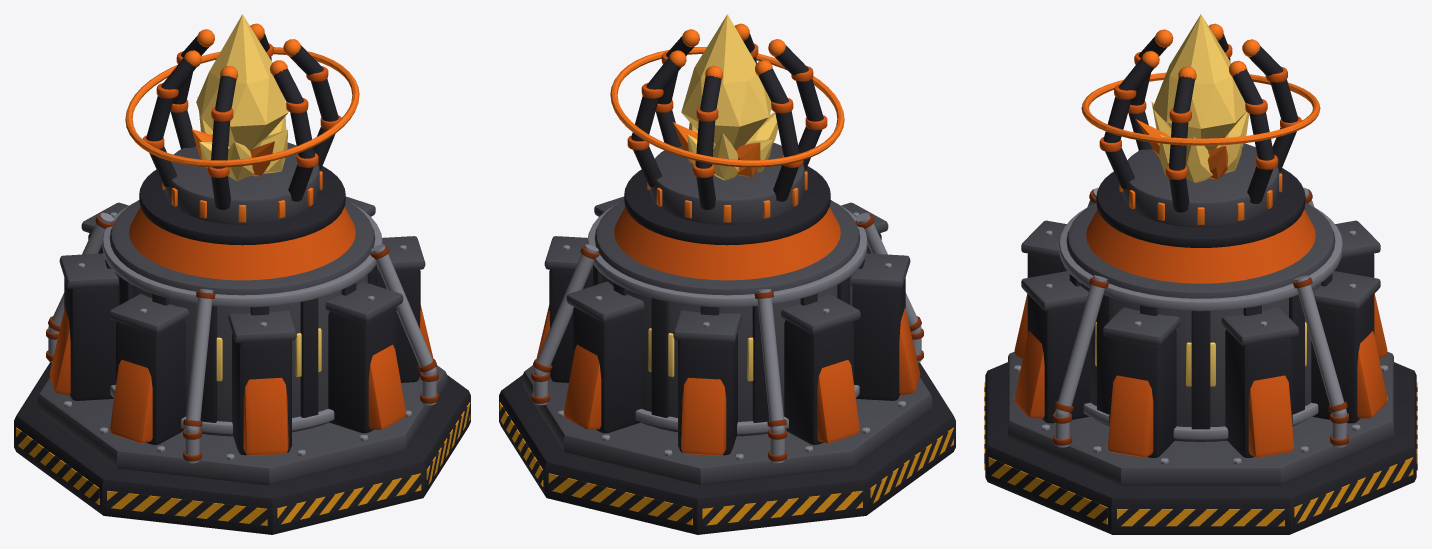
Rendered from Core.obj.
3 views of the same model, side by side, from view 1: azimuth 30°, elevation 25°; view 2: azimuth 150°, elevation 25°; view 3: azimuth 270°, elevation 25° (orthographic).
Visible parts, largest first — view 1: Core; view 2: Core; view 3: Core.
Part boxes in pixels (bbox=[...]): Core: bbox=[14, 14, 470, 534]; Core: bbox=[499, 14, 955, 534]; Core: bbox=[984, 14, 1417, 534].
Bounding box in the file's own units: 2.32 × 2.56 × 2.32.
